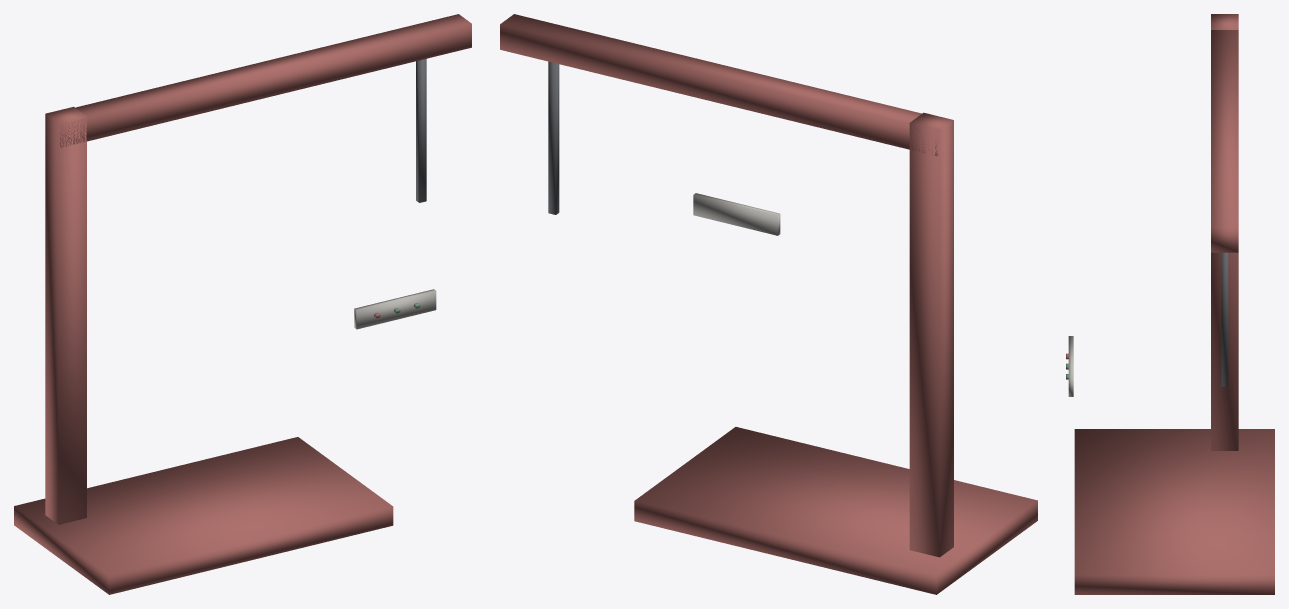
Rendered from chain_hoist__wide.glb.
The picture shows the model from 3 angles, left to right: view 1: azimuth 30°, elevation 25°; view 2: azimuth 150°, elevation 25°; view 3: azimuth 270°, elevation 25°; orthographic projection. The views are drawn at different scales.
Visible parts, largest first — view 1: world; view 2: world; view 3: world.
Part boxes in pixels (x1,y1,x2,y2): world: (14, 14, 471, 594); world: (500, 14, 1037, 594); world: (1066, 14, 1274, 594).
Size of the model in its own units: 1.87 by 1.75 by 0.751.
